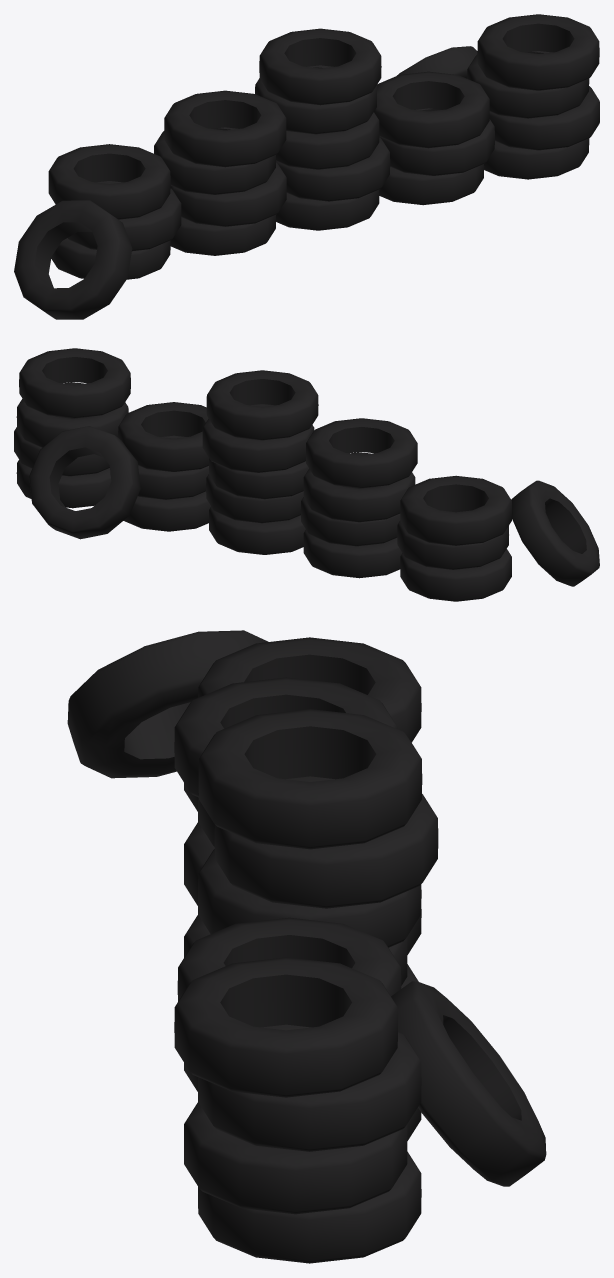
Rendered from SM_Tire_Pack_03.fbx.
3 views of the same model, one above another, from view 1: azimuth 30°, elevation 25°; view 2: azimuth 150°, elevation 25°; view 3: azimuth 270°, elevation 25° (orthographic). The views are drawn at different scales.
Visible parts, largest first — view 1: SM_Tire_Pack_03; view 2: SM_Tire_Pack_03; view 3: SM_Tire_Pack_03.
Part boxes in pixels (<box>): SM_Tire_Pack_03: <box>14,14,599,319</box>; SM_Tire_Pack_03: <box>14,348,599,601</box>; SM_Tire_Pack_03: <box>67,630,546,1263</box>.
Size of the model in its own units: 1175 by 308 by 447.
